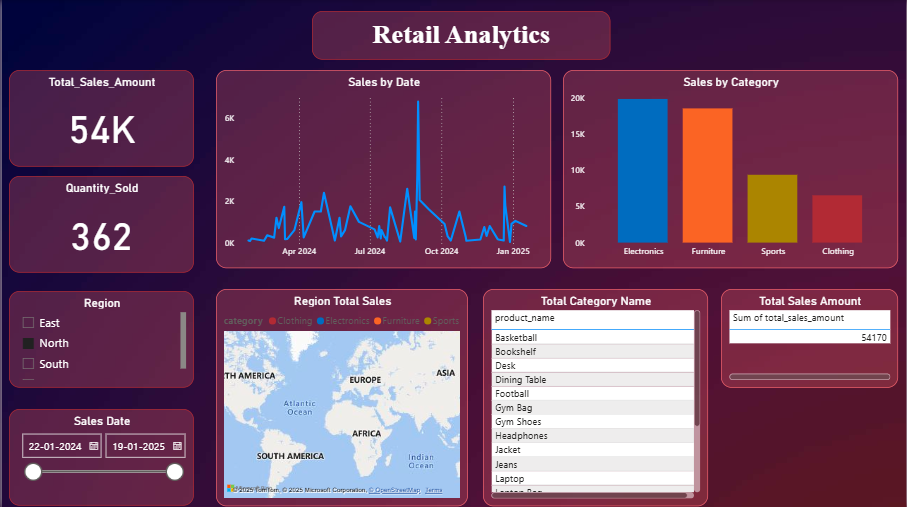

The dashboard page shown, as its layout file describes it:
{"tool":"powerbi","page":{"name":"Page 1","canvas":[1280,720],"ordinal":0},"visuals":[{"type":"slicer","title":"Region","fields":{"Values":["Sales.region"]},"box":[9.9,412.4,262.2,137.5],"z":0},{"type":"slicer","title":"Sales Date","fields":{"Values":["Sales.sale_date"]},"box":[9.9,579.7,262.2,137.5],"z":1000},{"type":"card","title":"Total_Sales_Amount","fields":{"Values":["Sum(Sales.total_sales_amount)"]},"box":[10.1,99.4,262.1,136.8],"z":2000},{"type":"card","title":"Quantity_Sold","fields":{"Values":["Sum(Sales.quantity_sold)"]},"box":[9.9,249.4,262.2,137.5],"z":3000},{"type":"textbox","box":[439.2,15.8,423.4,69.1],"z":4000},{"type":"clusteredColumnChart","title":"Sales by Category","fields":{"Y":["Sum(Sales.total_sales_amount)"],"Category":["Products.category"]},"box":[795.1,99.2,474.8,280.6],"z":5000},{"type":"lineChart","title":"Sales by Date","fields":{"Y":["Sum(Sales.total_sales_amount)"],"Category":["Sales.sale_date.Variation.Date Hierarchy.Year","Sales.sale_date.Variation.Date Hierarchy.Quarter","Sales.sale_date.Variation.Date Hierarchy.Month","Sales.sale_date.Variation.Date Hierarchy.Day"]},"box":[303.3,99.2,474.8,280.6],"z":6000},{"type":"filledMap","title":"Region Total Sales","fields":{"Series":["Products.category"]},"box":[303.3,409.6,357.2,307.6],"z":7000},{"type":"tableEx","title":"Total Category Name","fields":{"Values":["Products.product_name"]},"box":[681.7,409.6,318.9,307.6],"z":8000},{"type":"tableEx","title":"Total Sales Amount","fields":{"Values":["Sum(Sales.total_sales_amount)"]},"box":[1019.1,409.6,250.9,140.3],"z":9000}]}

Visuals, with their boxes in screenshot pixels (x1, y1, x2, y2), scaled from the page's 1280x720 canvas onto the 907x507 screenshot:
"Region" slicer: BBox(7, 290, 193, 387)
"Sales Date" slicer: BBox(7, 408, 193, 505)
"Total_Sales_Amount" card: BBox(7, 70, 193, 166)
"Quantity_Sold" card: BBox(7, 176, 193, 272)
textbox: BBox(311, 11, 611, 60)
"Sales by Category" clusteredColumnChart: BBox(563, 70, 900, 267)
"Sales by Date" lineChart: BBox(215, 70, 551, 267)
"Region Total Sales" filledMap: BBox(215, 288, 468, 505)
"Total Category Name" tableEx: BBox(483, 288, 709, 505)
"Total Sales Amount" tableEx: BBox(722, 288, 900, 387)
